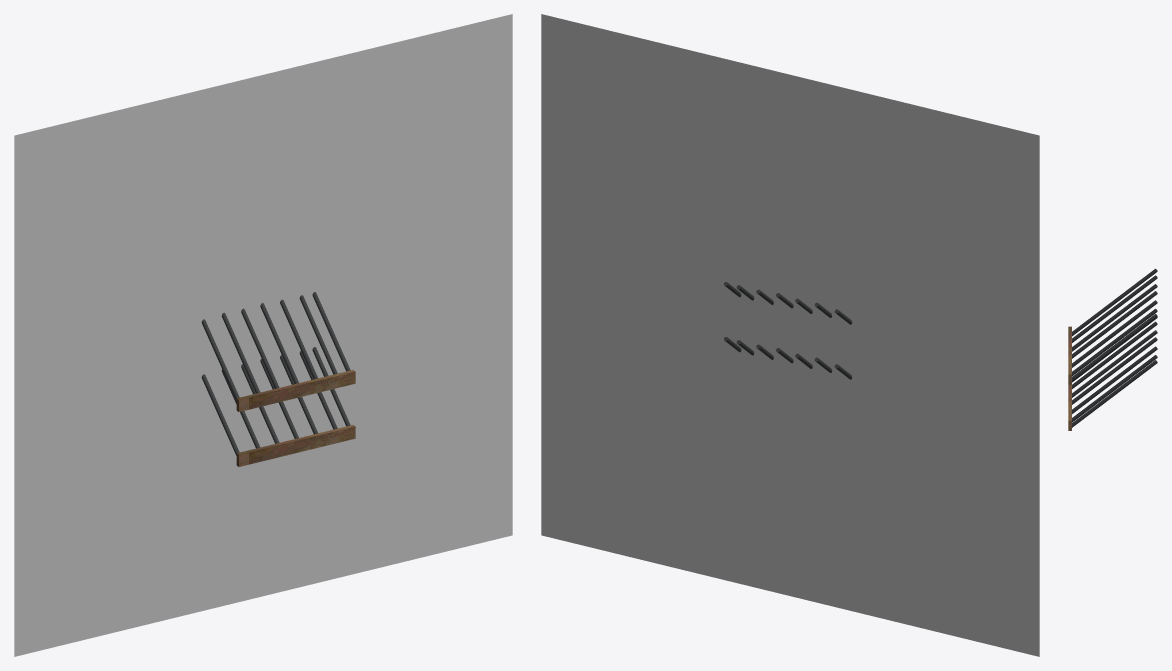
File: Food_Shelves+wall.obj
The picture shows the model from 3 angles, left to right: view 1: azimuth 30°, elevation 25°; view 2: azimuth 150°, elevation 25°; view 3: azimuth 270°, elevation 25°; orthographic projection. The views are drawn at different scales.
Visible parts, largest first — view 1: Plane, Cube, Cube.001; view 2: Plane, Cube, Cube.001; view 3: Cube, Cube.001.
Boxes of the visible parts, x1=… form: Plane: x1=14, y1=14, x2=512, y2=656; Cube: x1=201, y1=292, x2=355, y2=411; Cube.001: x1=201, y1=347, x2=355, y2=466; Plane: x1=541, y1=14, x2=1039, y2=656; Cube: x1=724, y1=282, x2=852, y2=324; Cube.001: x1=724, y1=337, x2=852, y2=379; Cube: x1=1068, y1=268, x2=1157, y2=384; Cube.001: x1=1068, y1=317, x2=1157, y2=430.
Bounding box in the file's own units: 256 × 256 × 47.46.
